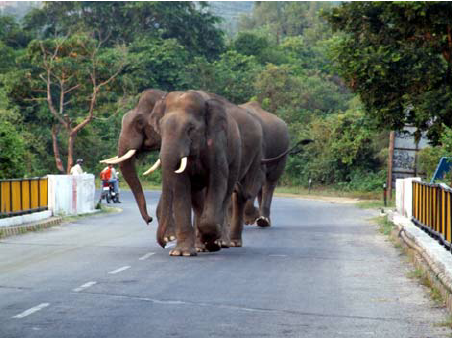Indian Elephant: (150, 81, 265, 270), (105, 88, 178, 239)
